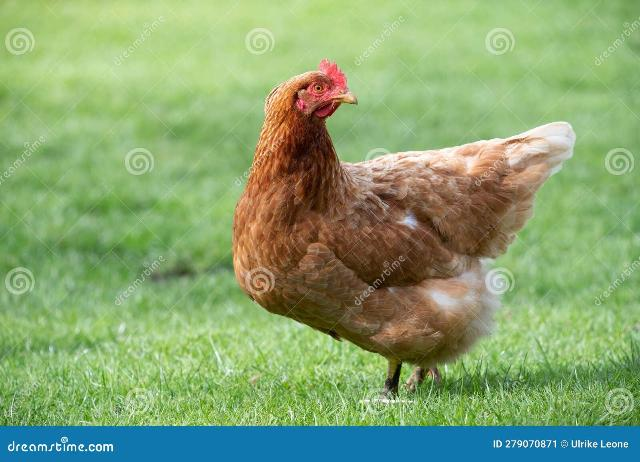Chicken: (234, 58, 578, 388)
